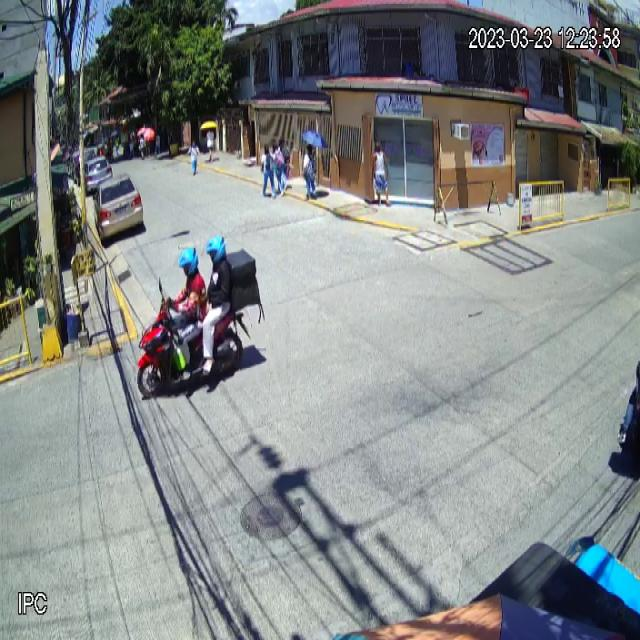Car: (91, 174, 144, 243)
Motorcycle: (136, 248, 260, 399)
